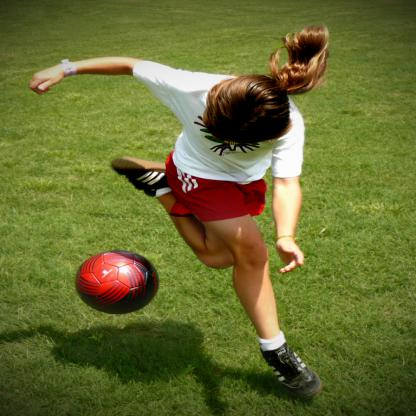Ball: (76, 250, 159, 314)
